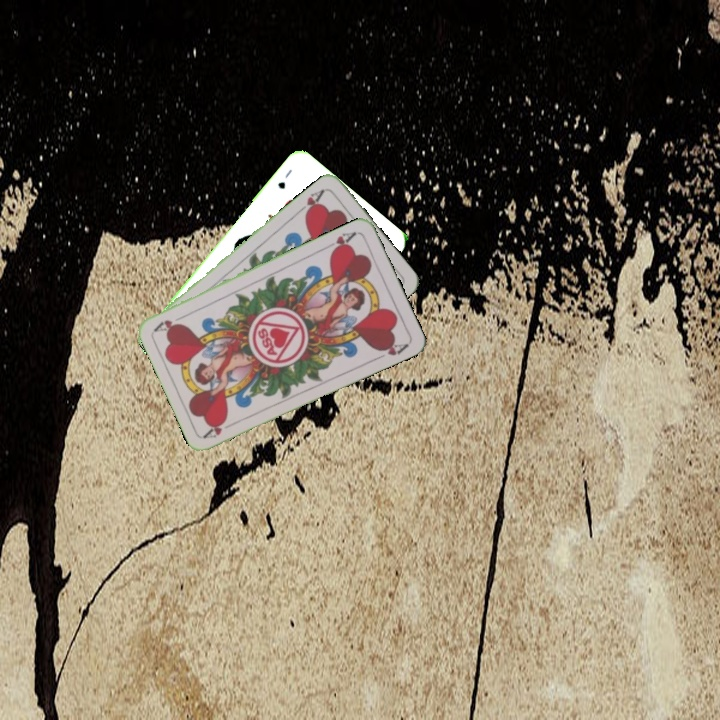GU: (274, 165, 294, 192)
HA: (294, 185, 327, 219), (322, 228, 359, 256), (200, 415, 239, 441)
